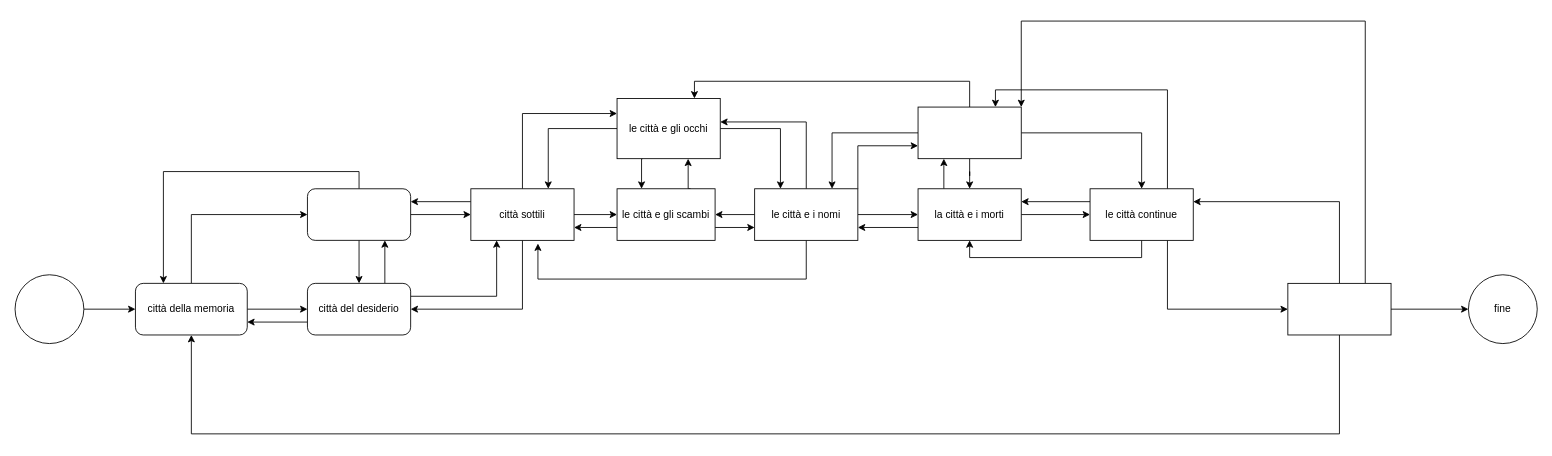
This 1552x456 diagram has some shape labels left out. The shapes that lost their labels are listed below. From the top down, each one's box as (x1, y1, x2, y2) in pixels, then its label:
(917, 106, 1021, 159): le città e il cielo
(307, 188, 411, 240): città dei segni
(14, 274, 84, 344): inizio
(1287, 283, 1391, 335): le città nascoste
